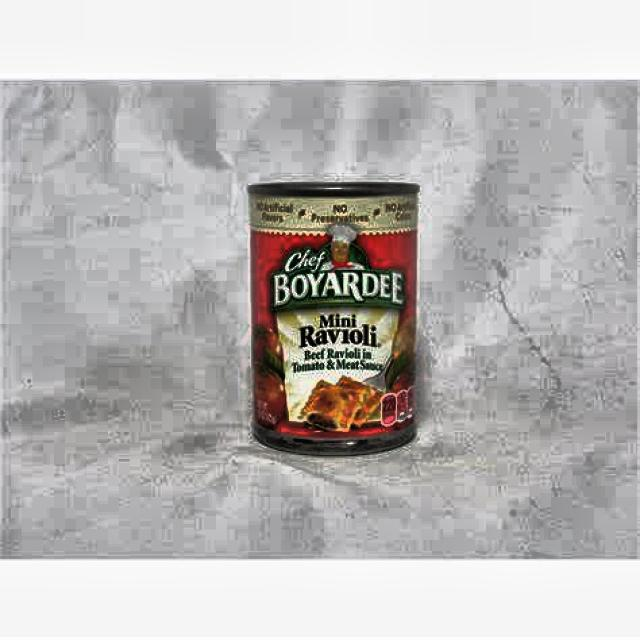Cans: (232, 155, 431, 492)
